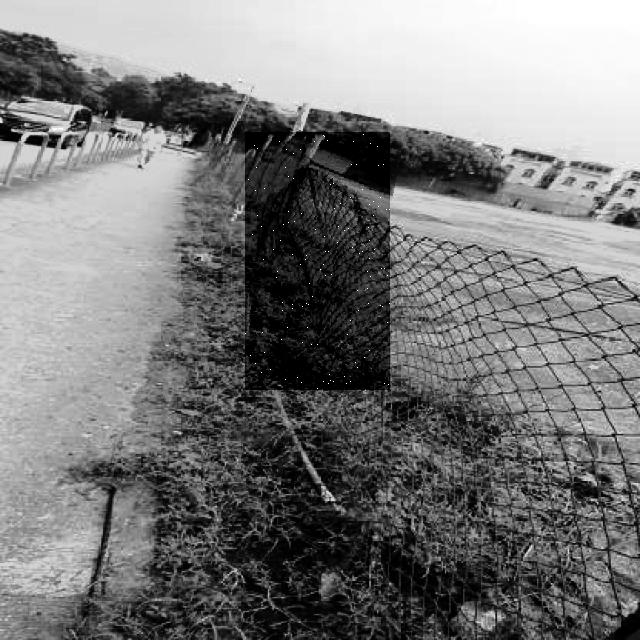anomaly-fence: (245, 132, 390, 390)
